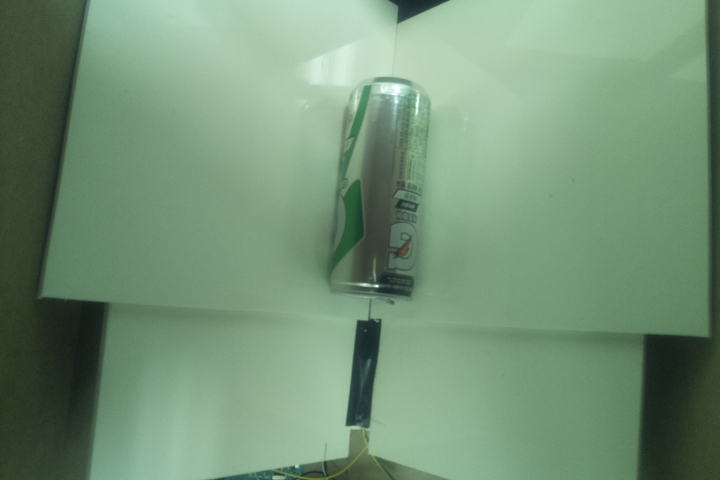can: (324, 71, 432, 305)
